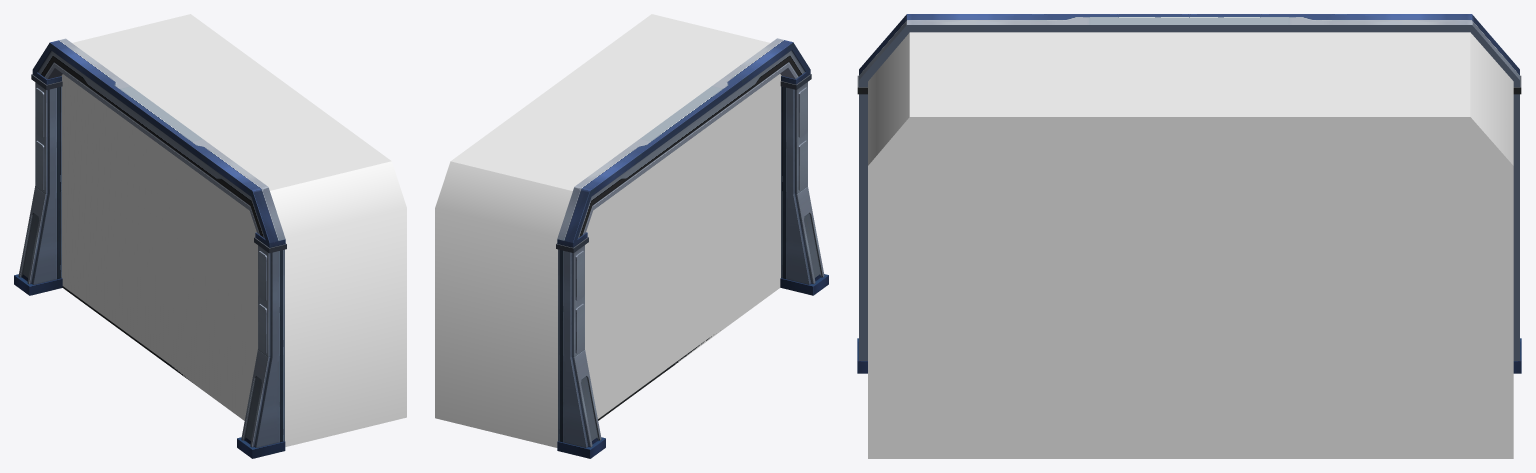
Rendered from my_carrier_01_wallcc_01.glb.
3 views of the same model, side by side, from view 1: azimuth 30°, elevation 25°; view 2: azimuth 150°, elevation 25°; view 3: azimuth 270°, elevation 25° (orthographic). The views are drawn at different scales.
Parts seen in each view (by area): view 1: my_carrier_01_wallcc_01_cover, my_carrier_01_wallcc_01_hole, my_carrier_01_wallcc_01.001; view 2: my_carrier_01_wallcc_01_cover, my_carrier_01_wallcc_01_hole, my_carrier_01_wallcc_01.001; view 3: my_carrier_01_wallcc_01_cover, my_carrier_01_wallcc_01.001.
Part boxes in pixels (box(x1,y1,x2,y2)): my_carrier_01_wallcc_01_cover: box(72, 14, 406, 446); my_carrier_01_wallcc_01_hole: box(61, 74, 257, 420); my_carrier_01_wallcc_01.001: box(14, 38, 286, 458); my_carrier_01_wallcc_01_cover: box(435, 14, 770, 447); my_carrier_01_wallcc_01_hole: box(585, 74, 781, 418); my_carrier_01_wallcc_01.001: box(556, 38, 828, 458); my_carrier_01_wallcc_01_cover: box(868, 32, 1513, 458); my_carrier_01_wallcc_01.001: box(857, 14, 1521, 373).
Size of the model in its own units: 0.0276 by 0.0418 by 0.072.
6 materials, 4 textured.
